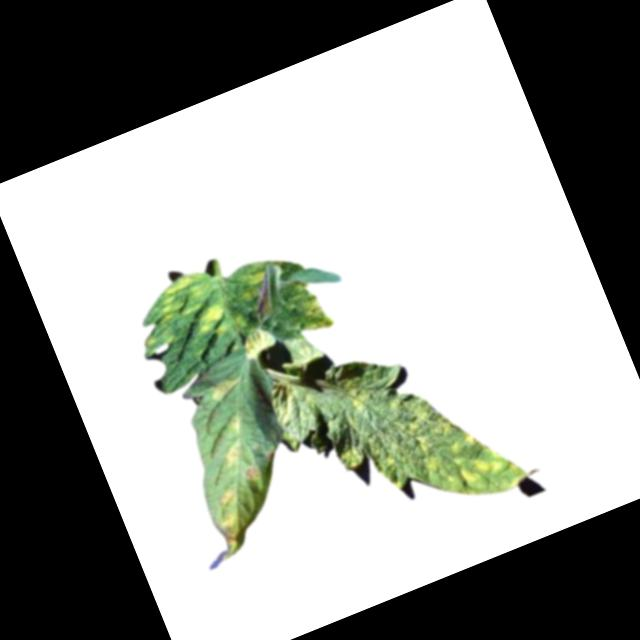Leaf_Mold: (388, 362, 531, 521), (125, 264, 238, 365), (289, 290, 338, 339), (214, 510, 253, 551), (236, 324, 277, 361), (213, 436, 250, 471), (204, 373, 241, 408), (342, 382, 377, 417), (222, 408, 251, 437), (216, 487, 239, 512)
